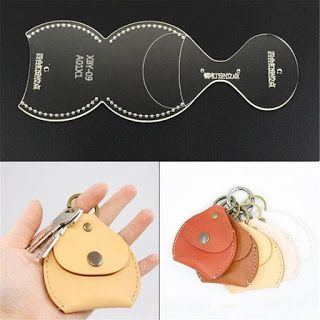cuero: (43, 206, 320, 313)
